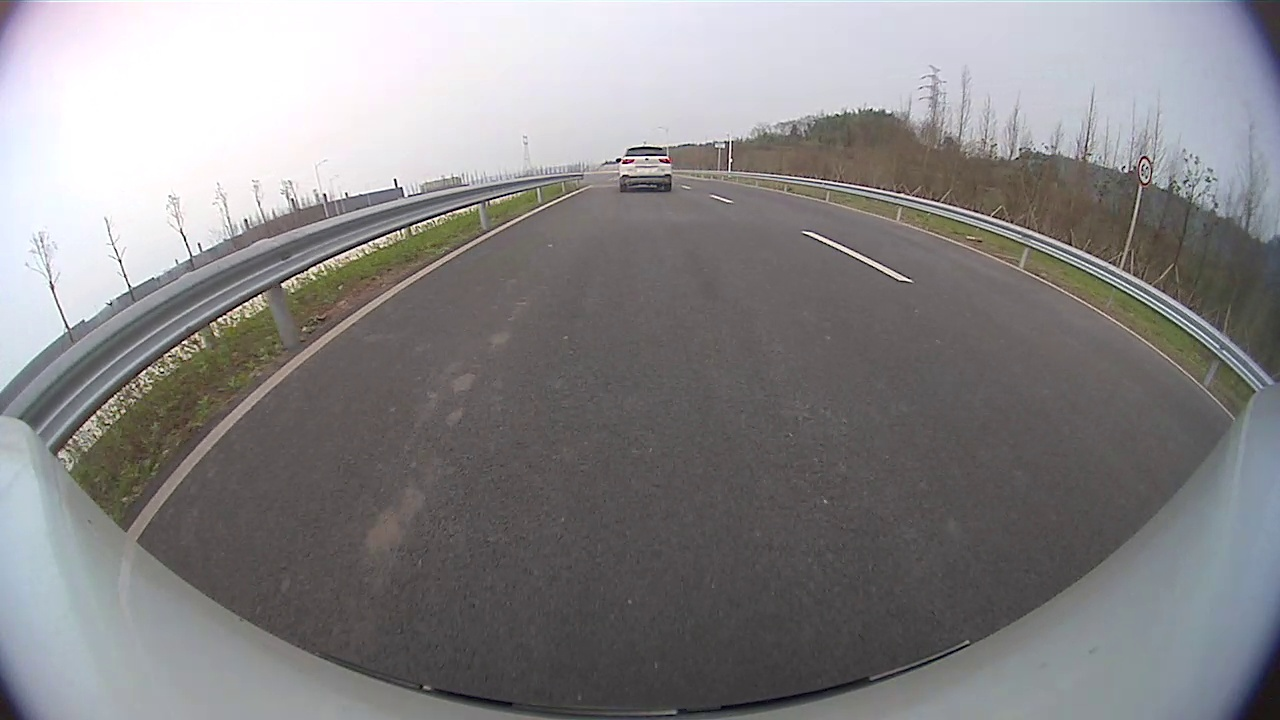car: (615, 145, 672, 192)
